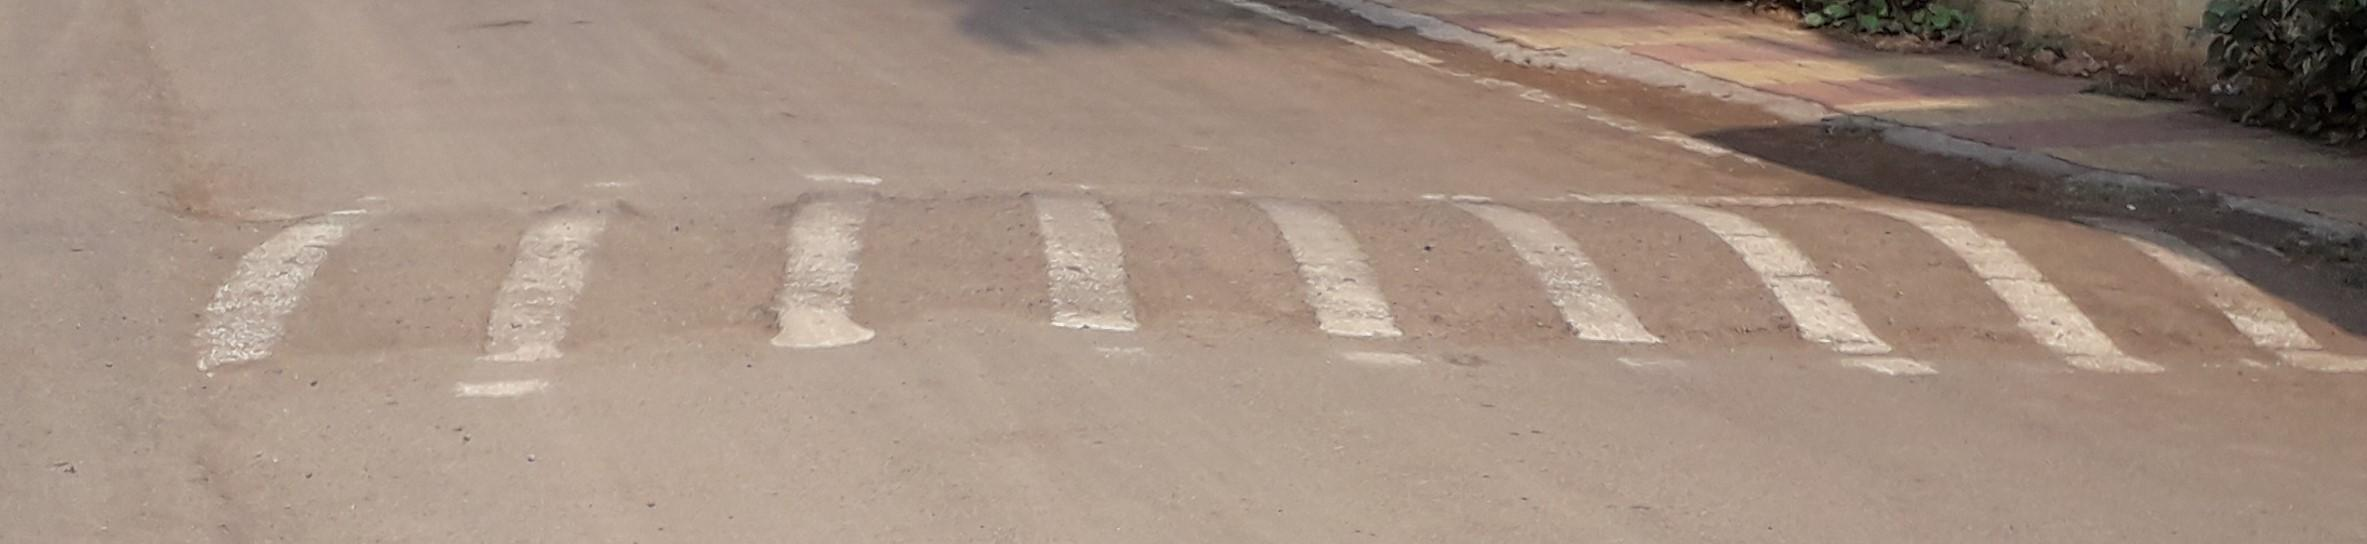speed-bump: (163, 198, 2362, 374)
